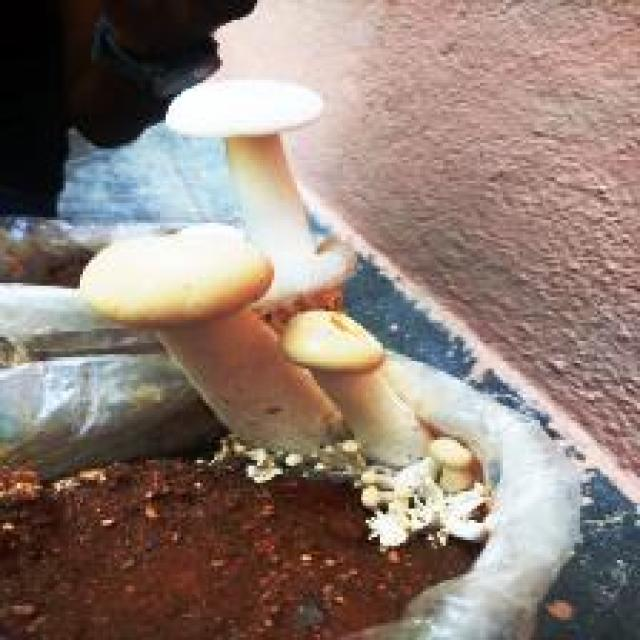field-mushroom: (163, 75, 357, 312)
